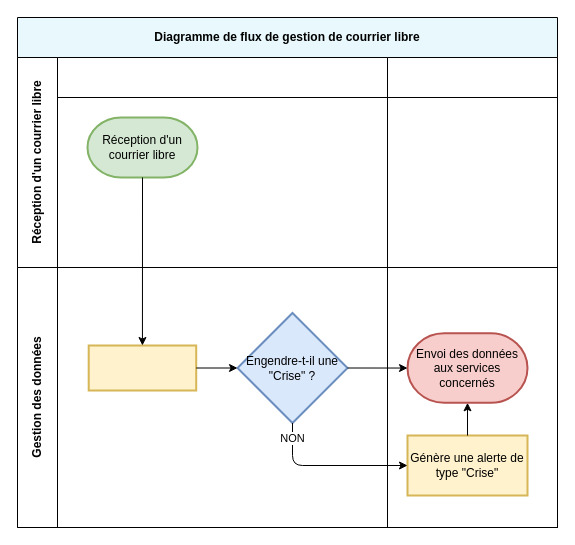
This 575x545 diagram has some shape labels left out. Each missing label, with the box of its shape:
Agent agréé de catégorie 3: (56, 56, 388, 268)
Analyse des données du courrier libre: (87, 344, 197, 391)
Superbeing affiliés et agents agréés: (386, 56, 558, 268)
